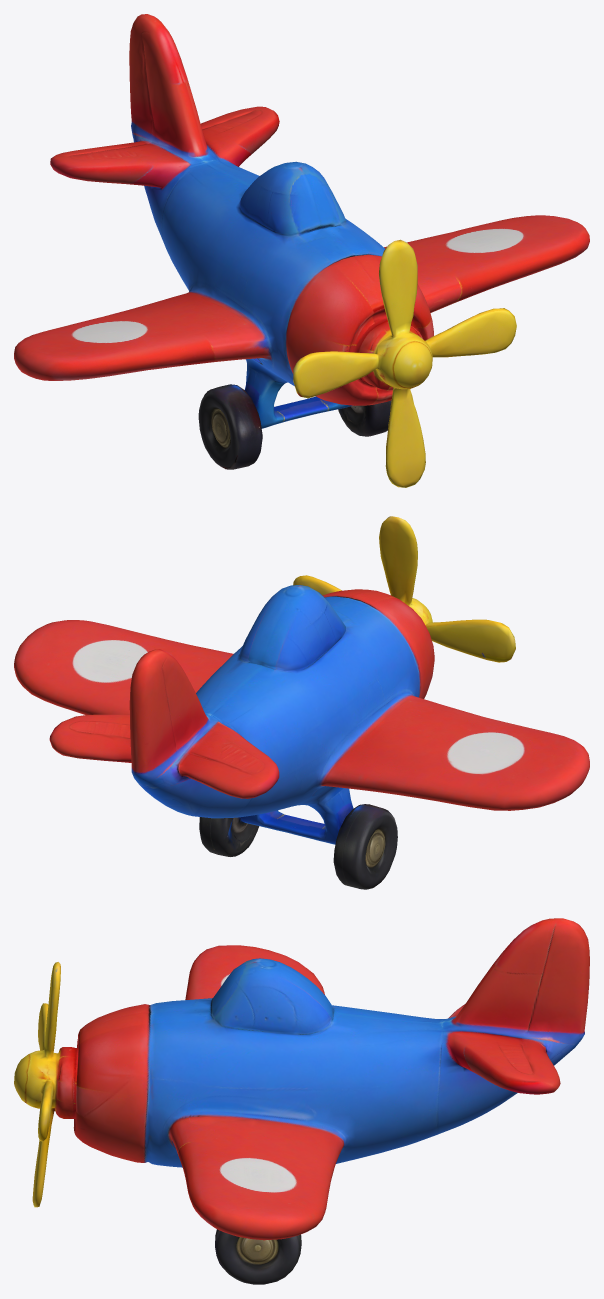
Rendered from explosive_ball.glb.
3 views of the same model, one above another, from view 1: azimuth 30°, elevation 25°; view 2: azimuth 150°, elevation 25°; view 3: azimuth 270°, elevation 25° (orthographic).
Bounding box in the file's own units: 2 × 1.11 × 1.76.
1 material, 1 textured.
